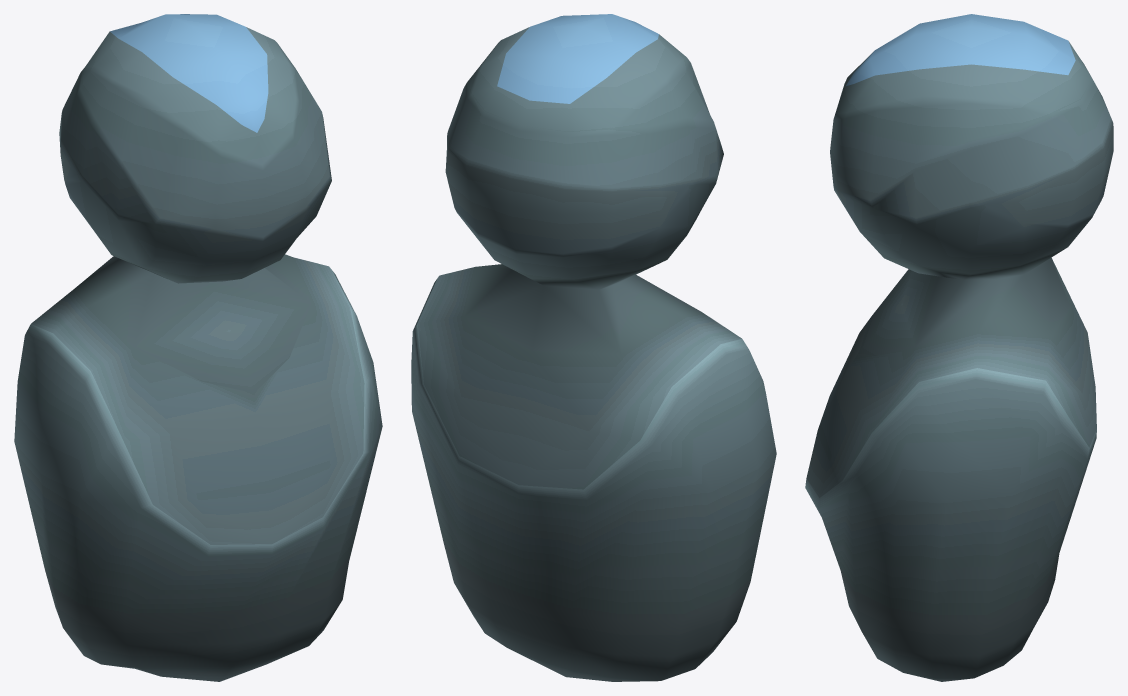
File: CharSkyKid_Prop_StoneMannequin.glb
3 views of the same model, side by side, from view 1: azimuth 30°, elevation 25°; view 2: azimuth 150°, elevation 25°; view 3: azimuth 270°, elevation 25° (orthographic). The views are drawn at different scales.
Parts seen in each view (by area): view 1: CharSkyKid_Prop_StoneMannequin; view 2: CharSkyKid_Prop_StoneMannequin; view 3: CharSkyKid_Prop_StoneMannequin.
Part boxes in pixels (x1=…): CharSkyKid_Prop_StoneMannequin: x1=14, y1=14, x2=382, y2=681; CharSkyKid_Prop_StoneMannequin: x1=411, y1=14, x2=776, y2=681; CharSkyKid_Prop_StoneMannequin: x1=805, y1=14, x2=1113, y2=681.
Size of the model in its own units: 1.9 by 3.56 by 1.58.
1 material, 1 textured.
